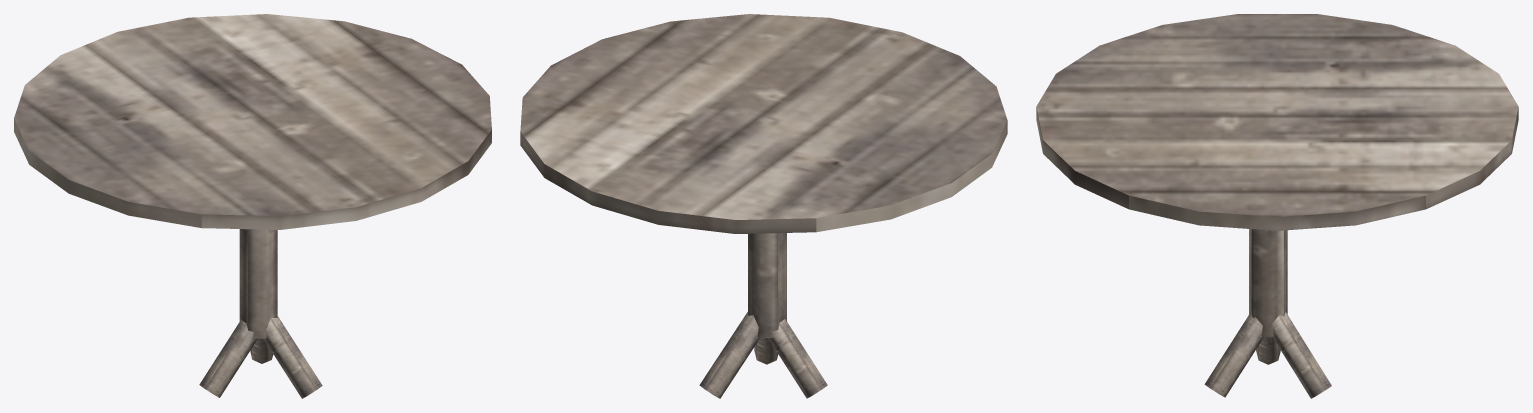
Rendered from tableround.glb.
3 renders of one model, left to right at view 1: azimuth 30°, elevation 25°; view 2: azimuth 150°, elevation 25°; view 3: azimuth 270°, elevation 25°, orthographic.
Parts seen in each view (by area): view 1: Cylinder001, Cylinder002, Cylinder005, Cylinder003, Cylinder004; view 2: Cylinder001, Cylinder002, Cylinder004, Cylinder003, Cylinder005; view 3: Cylinder001, Cylinder002, Cylinder004, Cylinder005, Cylinder003.
Part boxes in pixels (x1,y1,x2,y2): Cylinder001: [14, 14, 491, 229]; Cylinder002: [239, 229, 277, 338]; Cylinder005: [263, 316, 322, 398]; Cylinder003: [199, 320, 257, 397]; Cylinder004: [250, 338, 273, 363]; Cylinder001: [520, 14, 1007, 233]; Cylinder002: [748, 233, 786, 338]; Cylinder004: [699, 312, 759, 398]; Cylinder003: [768, 319, 827, 398]; Cylinder005: [754, 338, 778, 364]; Cylinder001: [1036, 14, 1518, 230]; Cylinder002: [1249, 229, 1287, 337]; Cylinder004: [1272, 312, 1331, 398]; Cylinder005: [1204, 312, 1263, 397]; Cylinder003: [1256, 336, 1280, 364].
Size of the model in its own units: 0.9581 by 0.5938 by 0.9614.
Materials: 1 (1 with a texture image).
